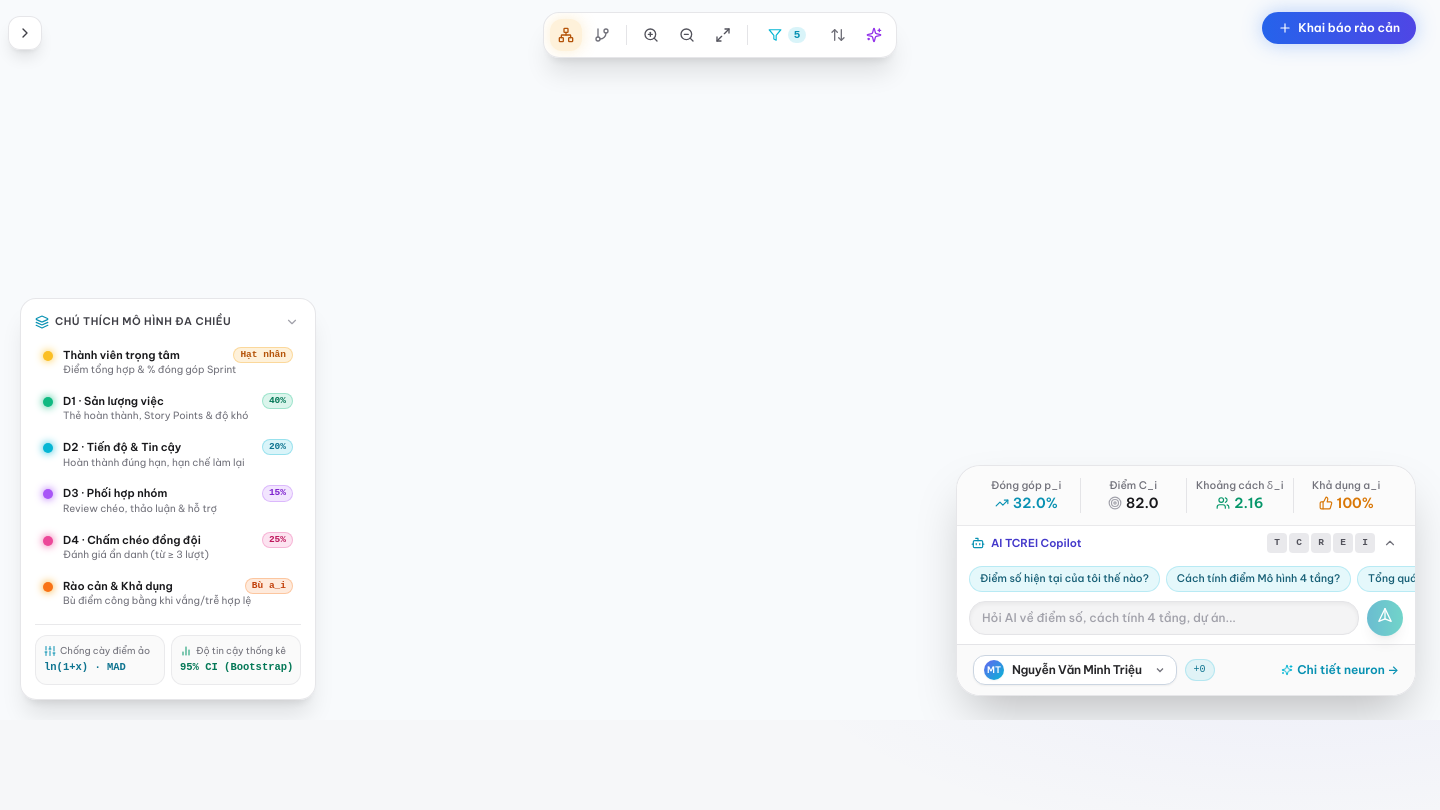
Test: MultidimensionalVectorPage Component Tests › integrates AI Chatbox with TCREI workflow in bottom-right dock
The image size is (1440, 810).
Expected: the text "AI TCREI Copilot" is shown, [991,535,1082,552]
Type "Điểm số của tôi là bao nhiêu?" into the field with placeholder "Hỏi AI về điểm số, cách tính 4 tầng, dự án..." at (1164, 618), box [982,610,1346,626]
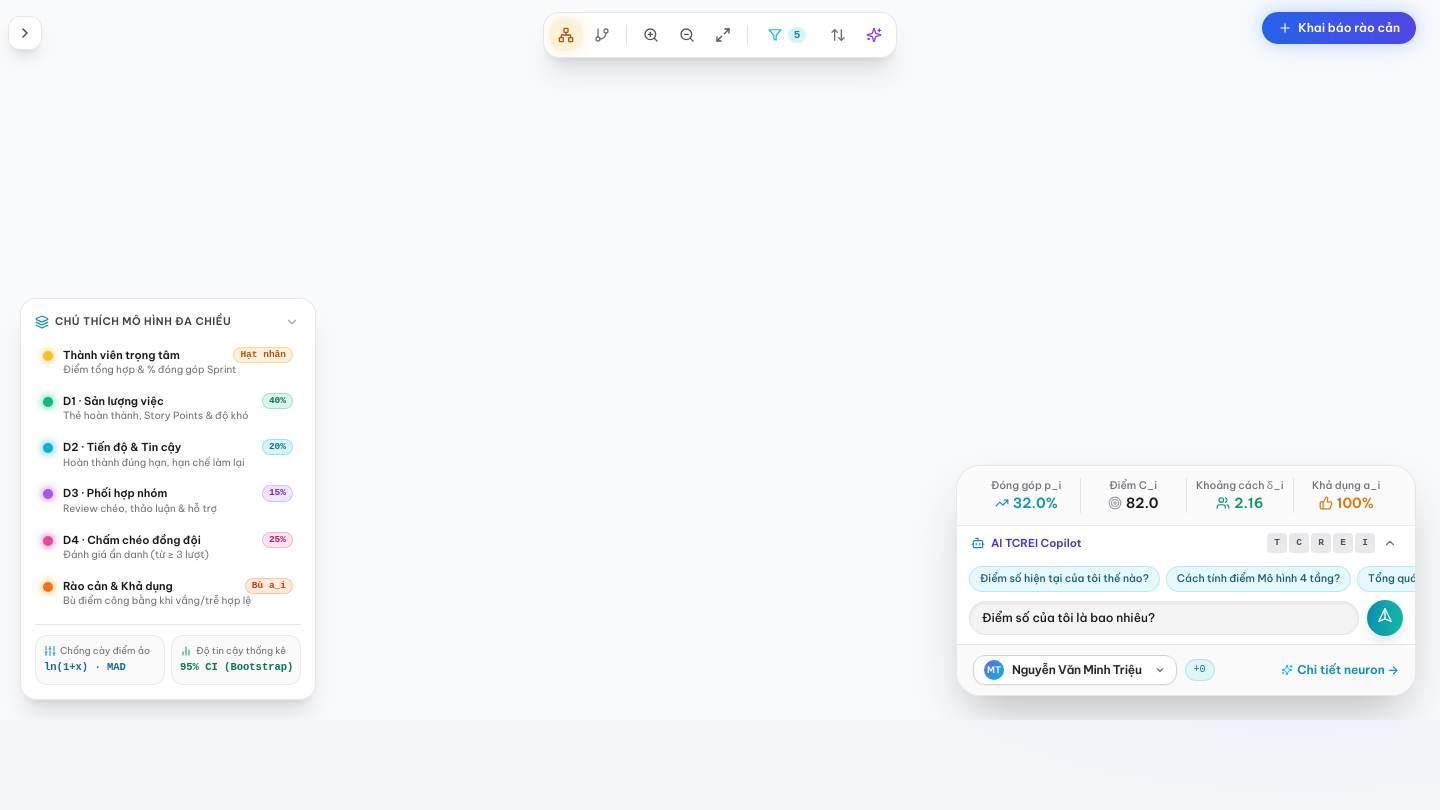
Submit the form with placeholder "Hỏi AI về điểm số, cách tính 4 tầng, dự án", box [957,592,1415,644]
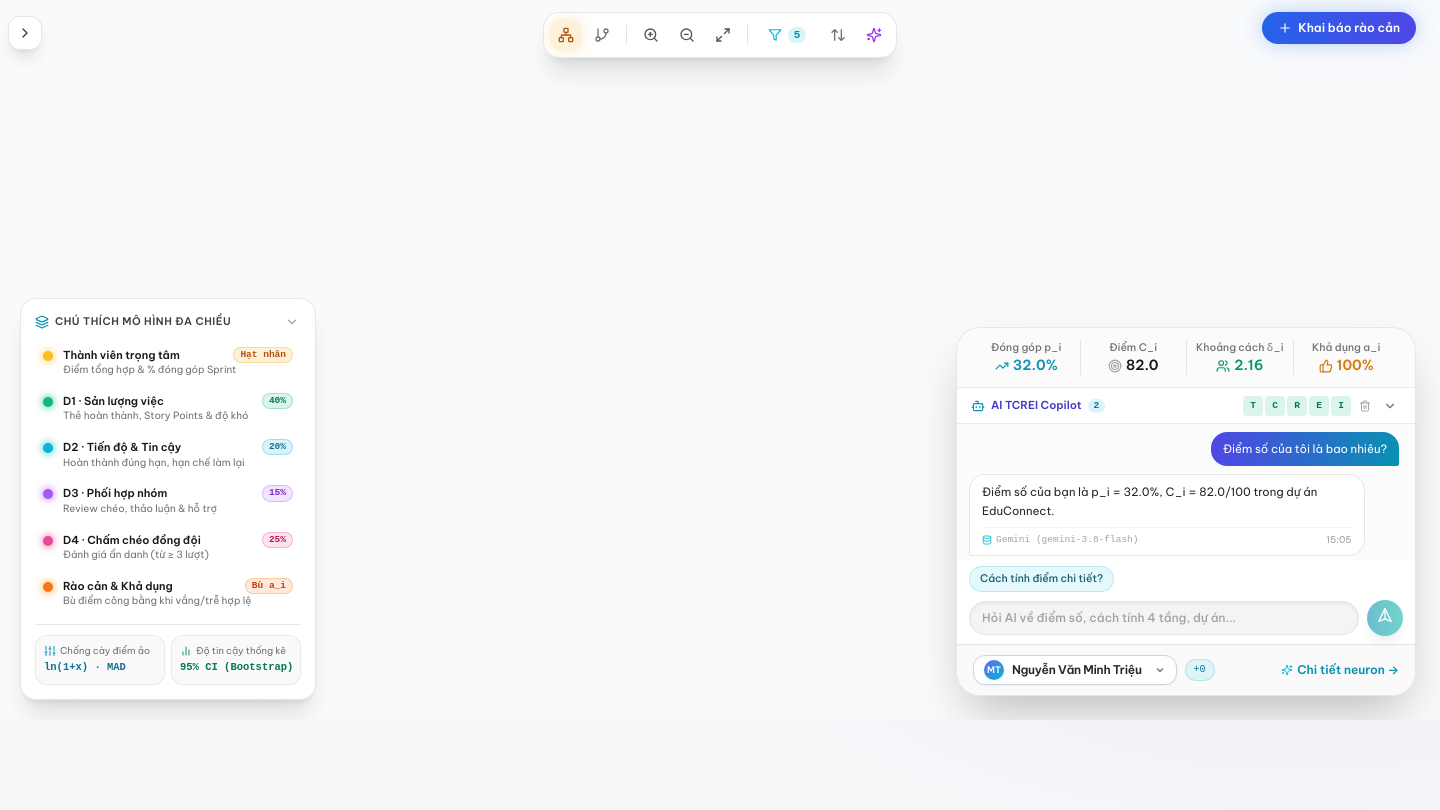
Expected: the text "82.0/100 trong dự án EduConnect" is shown, [982,484,1317,518]
Click the button titled "C - Context" at (1275, 406), box [1265,396,1285,416]
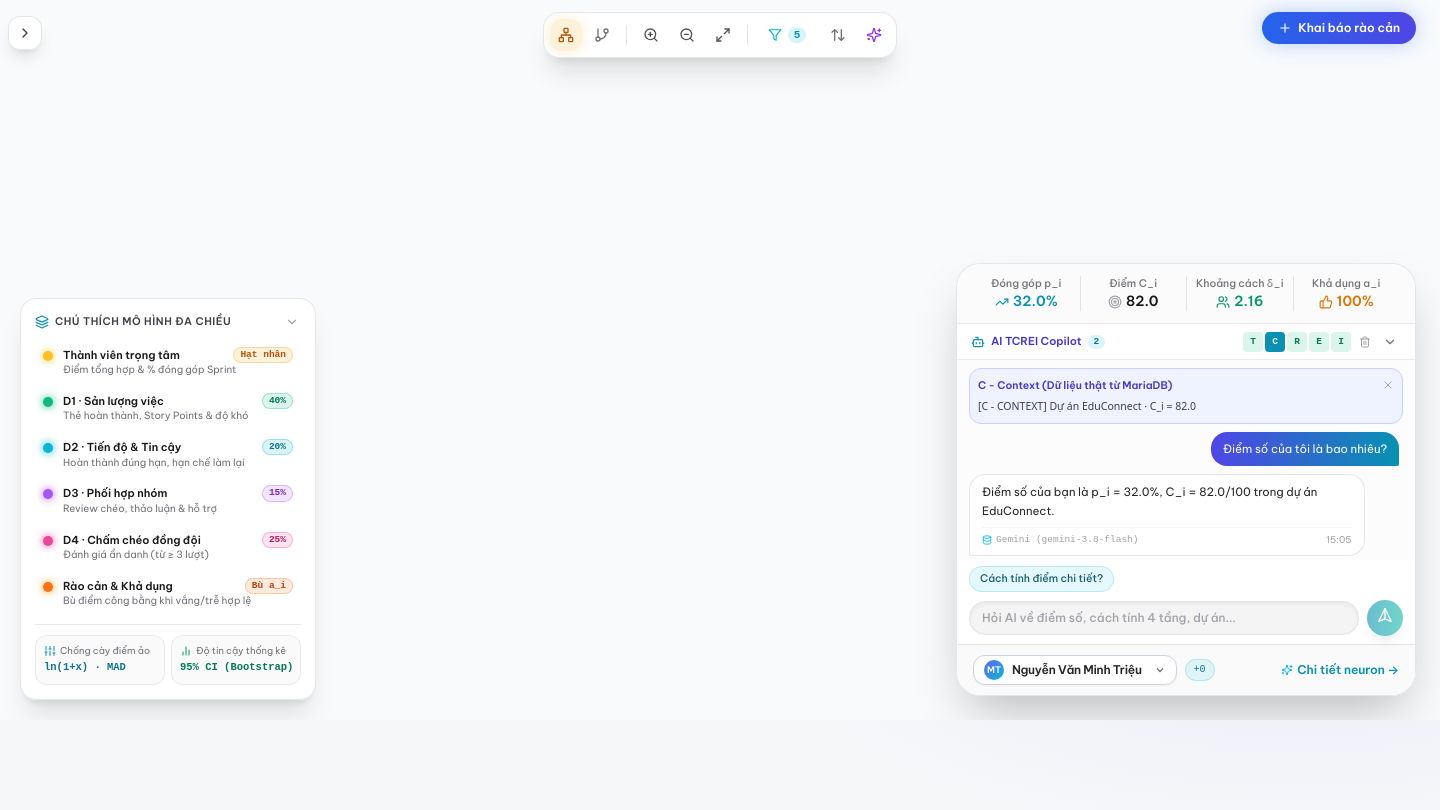
Expected: the text "[C - CONTEXT] Dự án EduConnect · C_i = 82.0" is shown, [978,399,1196,413]
